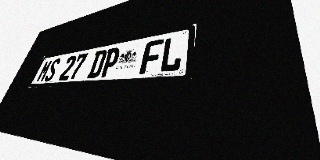2: (58, 55, 78, 81)
7: (68, 53, 88, 80)
D: (86, 49, 108, 78)
F: (139, 39, 164, 74)
L: (158, 35, 185, 73)
M: (35, 59, 53, 82)
P: (99, 47, 122, 77)
S: (43, 58, 62, 82)
